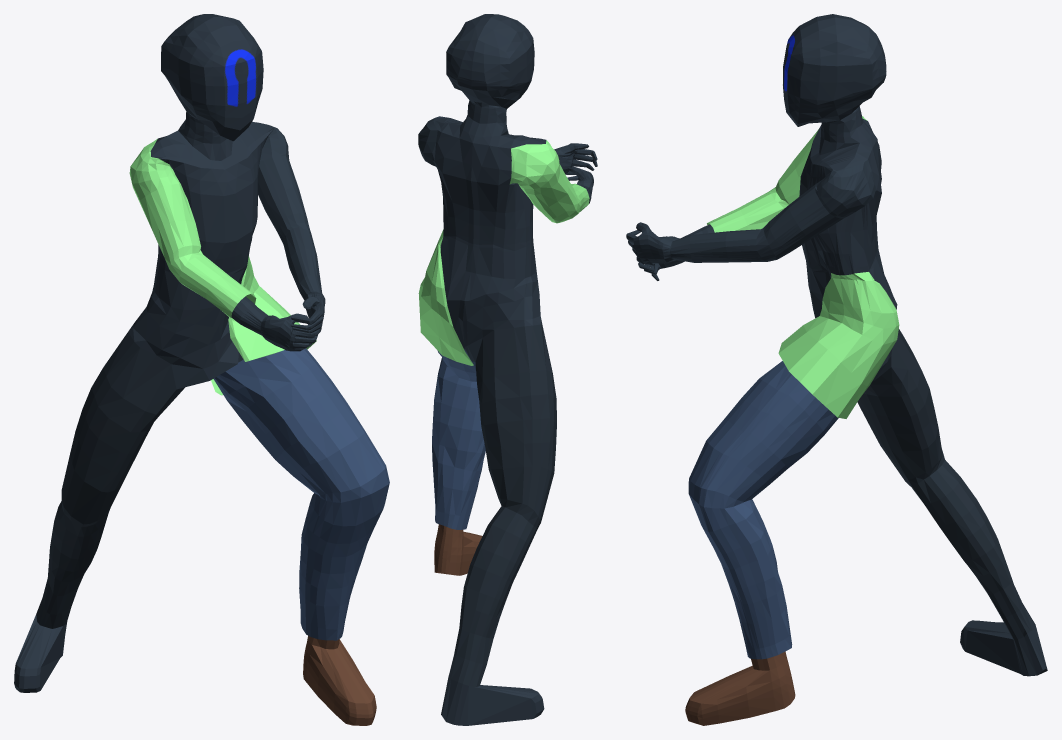
The model's file is Mar_WL_000010.obj.
3 views of the same model, side by side, from view 1: azimuth 30°, elevation 25°; view 2: azimuth 150°, elevation 25°; view 3: azimuth 270°, elevation 25° (orthographic). The views are drawn at different scales.
Parts seen in each view (by area): view 1: Cube.000_Cube.001; view 2: Cube.000_Cube.001; view 3: Cube.000_Cube.001.
Boxes of the visible parts, x1,y1,x2,y2 form: Cube.000_Cube.001: [14, 14, 389, 725]; Cube.000_Cube.001: [418, 14, 597, 725]; Cube.000_Cube.001: [626, 14, 1047, 725].
Bounding box in the file's own units: 1.33 × 3.72 × 2.07.
